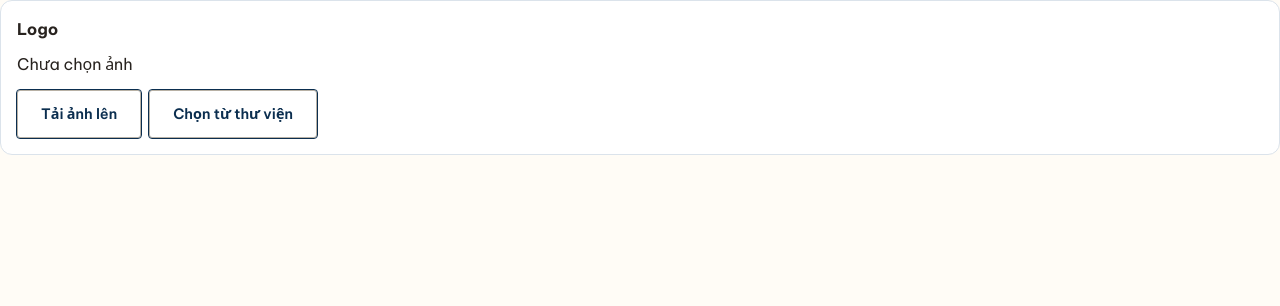
Test: selects an existing asset and uploads a new image through the API
Later steps or results of the test are not shown.
Click the button "Chọn từ thư viện" at coordinates (233, 114), box [149,90,317,138]
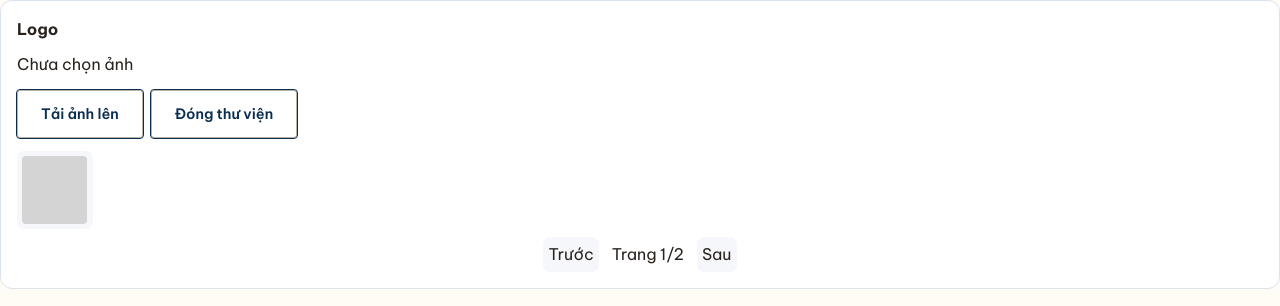
Now the text "Trang 1/2" is shown, box [612,242,684,267]
